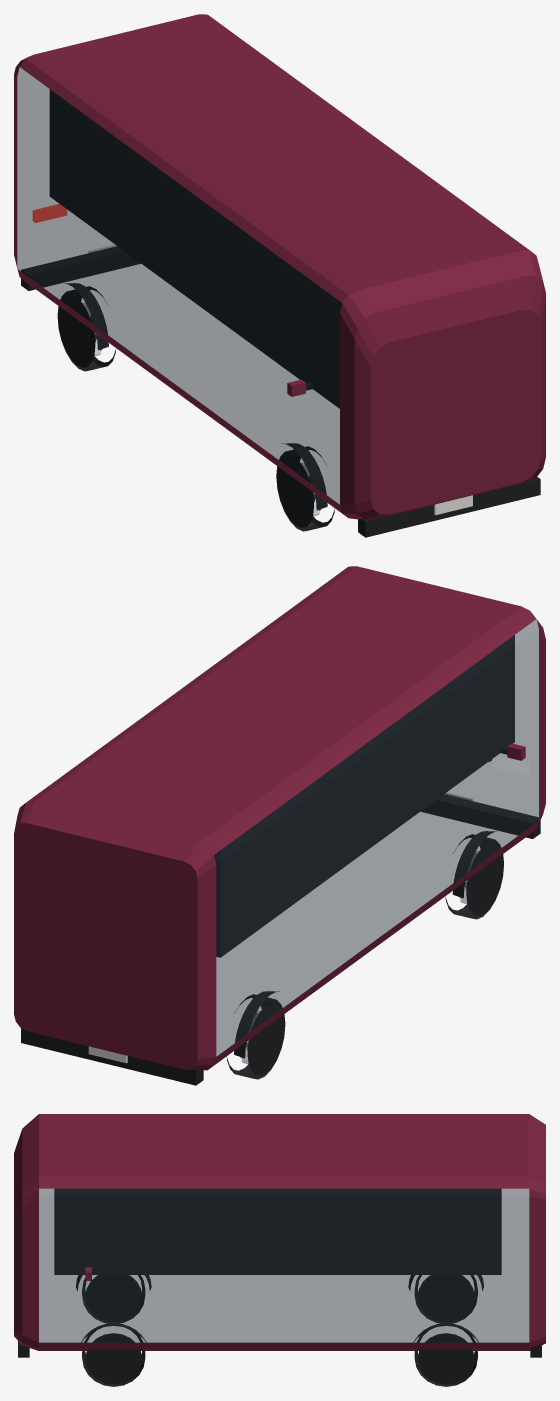
The model's file is minibus.glb.
The picture shows the model from 3 angles, top to bottom: view 1: azimuth 30°, elevation 25°; view 2: azimuth 150°, elevation 25°; view 3: azimuth 270°, elevation 25°; orthographic projection. The views are drawn at different scales.
Parts seen in each view (by area): view 1: body, wheel_FL, wheel_RL; view 2: body, wheel_FL, wheel_RL; view 3: body, wheel_RL, wheel_FL, wheel_FR, wheel_RR.
Boxes of the visible parts, x1,y1,x2,y2 form: body: (14, 14, 545, 537); wheel_FL: (276, 446, 334, 531); wheel_RL: (57, 286, 116, 371); body: (14, 566, 545, 1085); wheel_FL: (445, 834, 503, 919); wheel_RL: (226, 994, 285, 1079); body: (14, 1114, 545, 1357); wheel_RL: (414, 1275, 477, 1323); wheel_FL: (82, 1275, 145, 1323); wheel_FR: (82, 1328, 145, 1386); wheel_RR: (414, 1328, 477, 1386).
Size of the model in its own units: 2.47 by 2.74 by 6.4.
